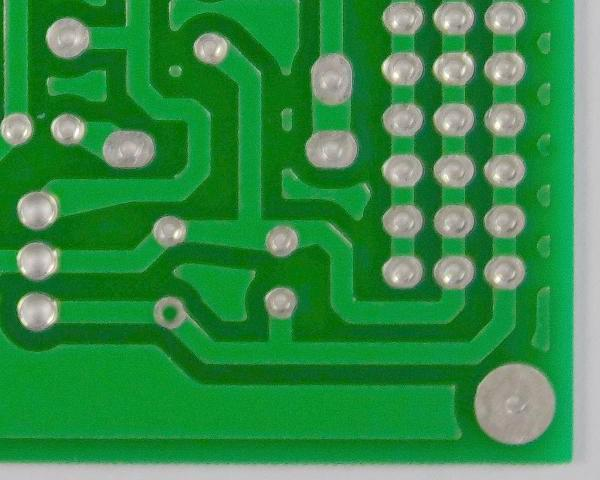missing hole: (151, 290, 189, 333)
